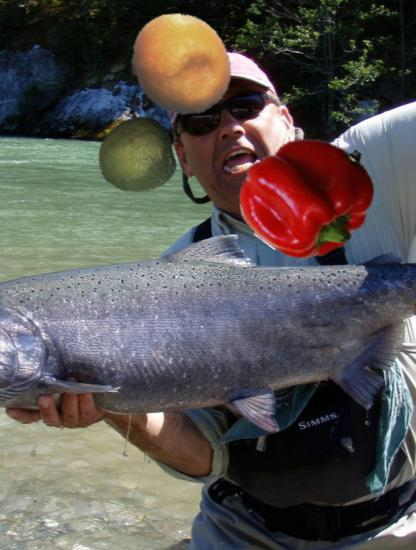Kumquats: (128, 12, 233, 117)
Limes: (98, 118, 177, 197)
Pepper: (243, 130, 372, 259)
